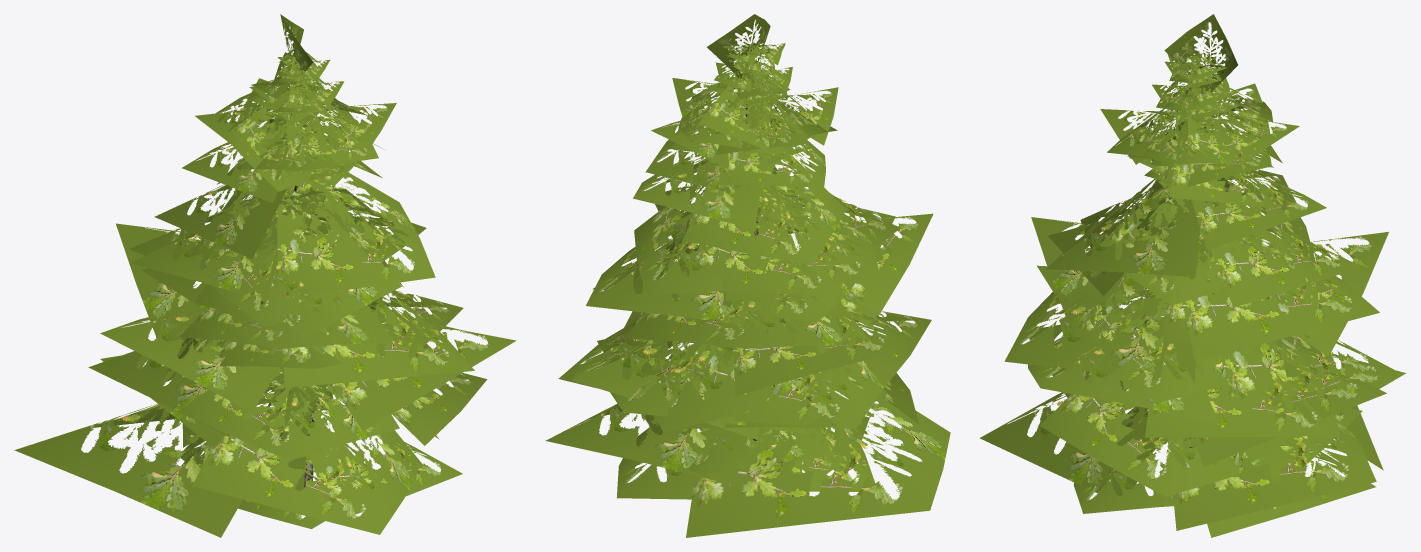
The model's file is tree_pine.dae.
3 views of the same model, side by side, from view 1: azimuth 30°, elevation 25°; view 2: azimuth 150°, elevation 25°; view 3: azimuth 270°, elevation 25° (orthographic).
Parts seen in each view (by area): view 1: tree_pine_joined; view 2: tree_pine_joined; view 3: tree_pine_joined.
Boxes of the visible parts, bbox=[...] form: tree_pine_joined: bbox=[14, 14, 516, 537]; tree_pine_joined: bbox=[545, 14, 950, 537]; tree_pine_joined: bbox=[980, 14, 1406, 537].
Size of the model in its own units: 4.39 by 4 by 4.83.
